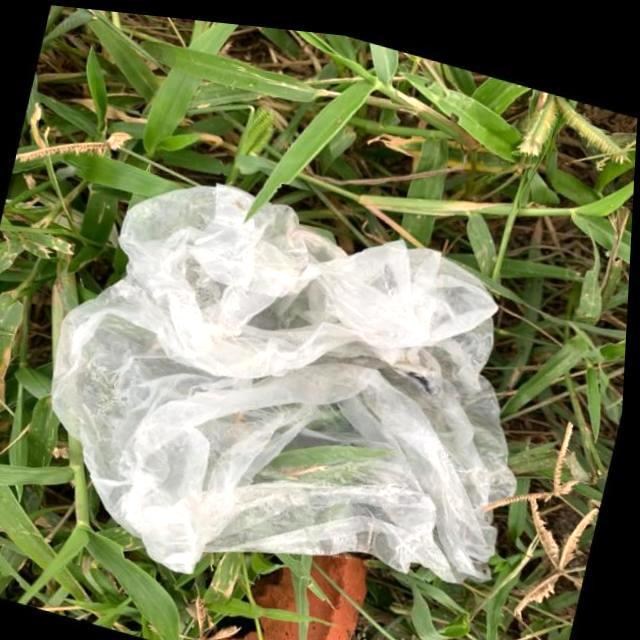polythene: (129, 224, 455, 540)
